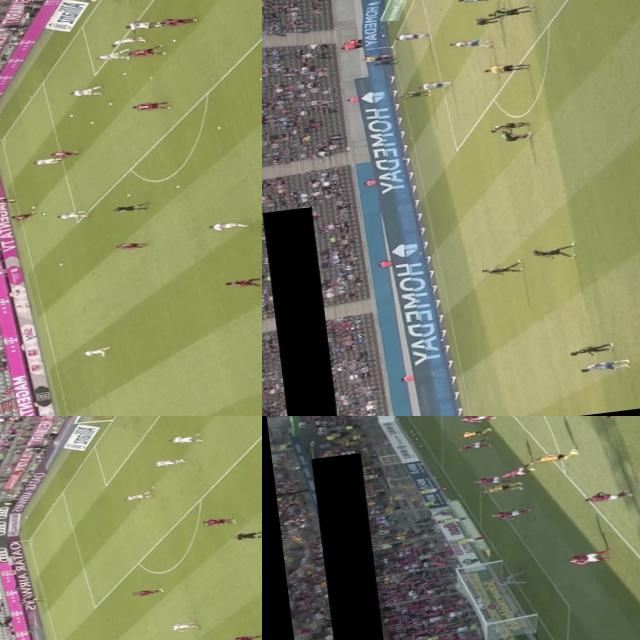ball: (381, 44, 396, 50), (56, 262, 64, 266), (106, 102, 112, 107), (88, 120, 95, 124), (214, 126, 220, 130), (173, 185, 179, 189), (124, 193, 130, 197), (120, 72, 126, 76), (28, 206, 36, 209), (40, 212, 46, 216), (169, 39, 176, 42), (258, 77, 262, 82), (68, 114, 72, 116)
player: (527, 242, 575, 265), (574, 357, 630, 375), (578, 488, 634, 504), (528, 448, 580, 465), (558, 550, 610, 566), (446, 34, 489, 53), (564, 341, 611, 358), (124, 18, 162, 36), (486, 5, 529, 20), (494, 464, 540, 478), (390, 28, 429, 44), (486, 120, 529, 134), (222, 276, 262, 291), (479, 262, 521, 276), (130, 100, 170, 114), (126, 44, 166, 58), (480, 482, 520, 496), (488, 506, 528, 520), (466, 13, 498, 30), (159, 15, 200, 28), (150, 455, 186, 469), (202, 514, 237, 528), (69, 85, 106, 98), (208, 220, 248, 232), (498, 128, 528, 144), (130, 585, 163, 599), (167, 619, 200, 633), (490, 572, 523, 586), (80, 346, 112, 360), (110, 36, 147, 48), (95, 49, 129, 62), (416, 79, 452, 91), (115, 240, 148, 252), (48, 148, 80, 160), (456, 428, 492, 438), (396, 90, 430, 100), (455, 416, 497, 424), (55, 210, 87, 220), (366, 58, 398, 68), (454, 440, 486, 450), (120, 492, 151, 502), (170, 433, 198, 444), (454, 0, 497, 7), (9, 211, 36, 221), (470, 476, 501, 484), (227, 633, 260, 640), (32, 158, 60, 166), (86, 0, 119, 3)
